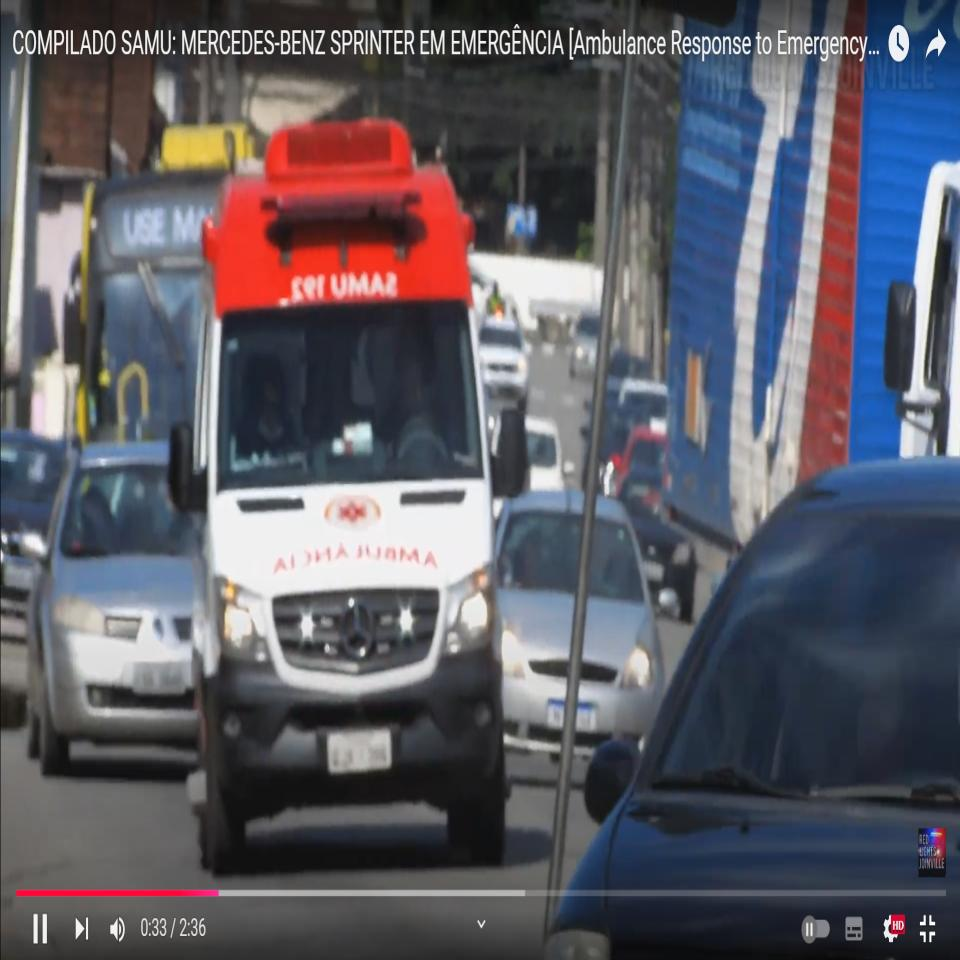ambulancia: (180, 115, 533, 868)
